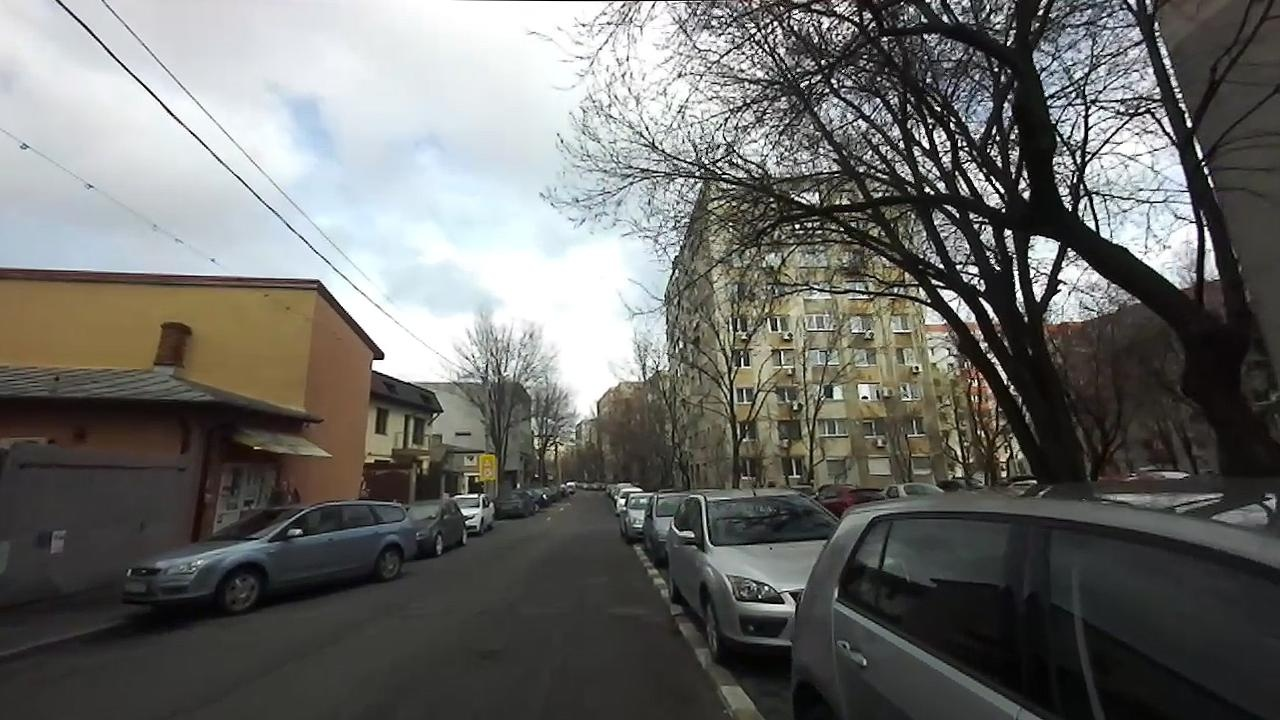pothole: (464, 641, 508, 665)
